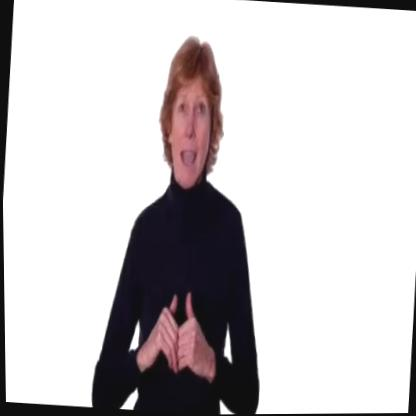HowAreYou: (135, 266, 211, 384)
